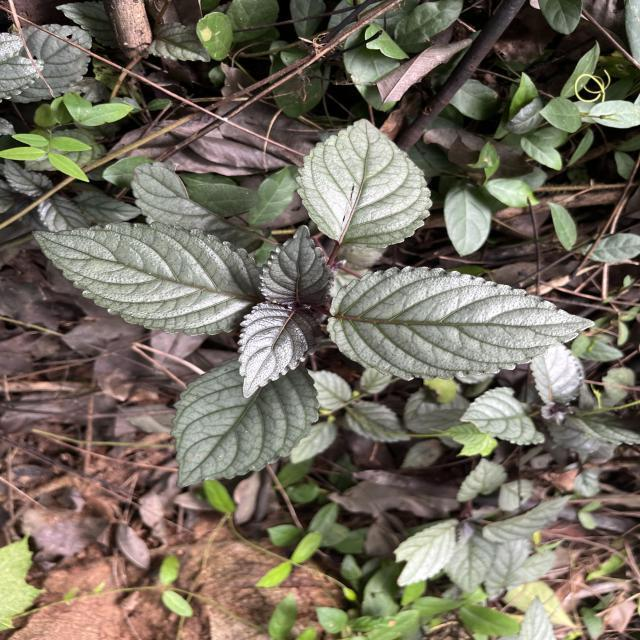Hemigraphis colorata: (320, 262, 600, 384), (28, 220, 260, 339), (167, 354, 324, 490), (292, 114, 436, 253), (233, 298, 331, 402), (256, 220, 336, 304)
